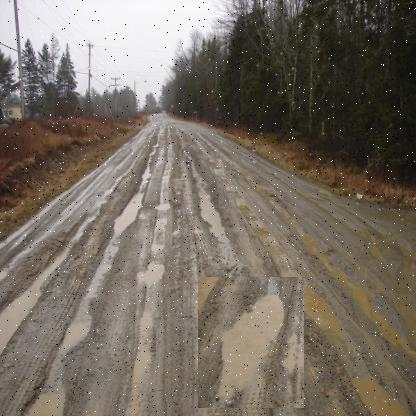pothole_water: (198, 278, 305, 410)
